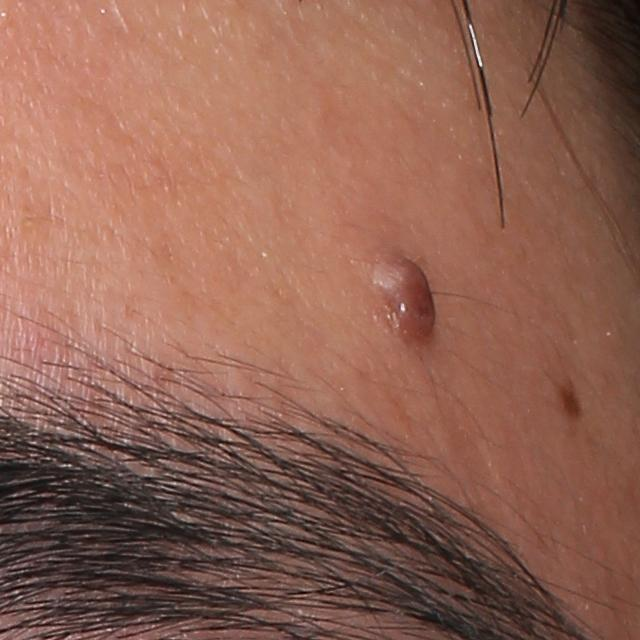nevus: (371, 253, 444, 345), (554, 380, 582, 424)
